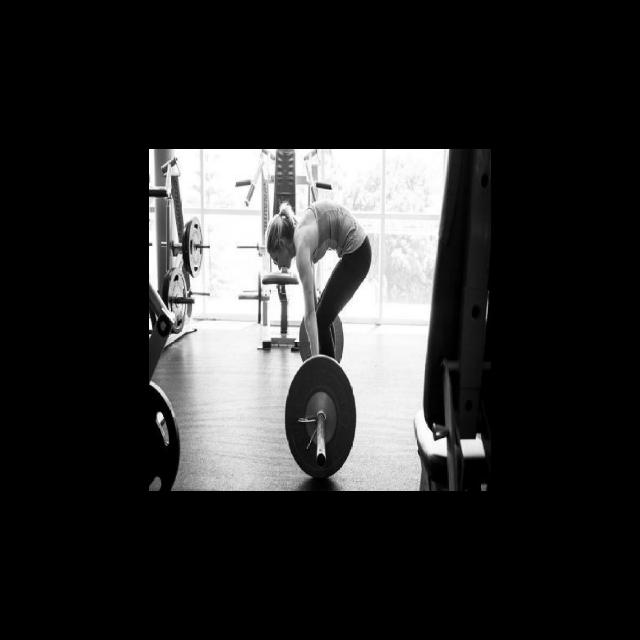barbell: (284, 353, 359, 482)
